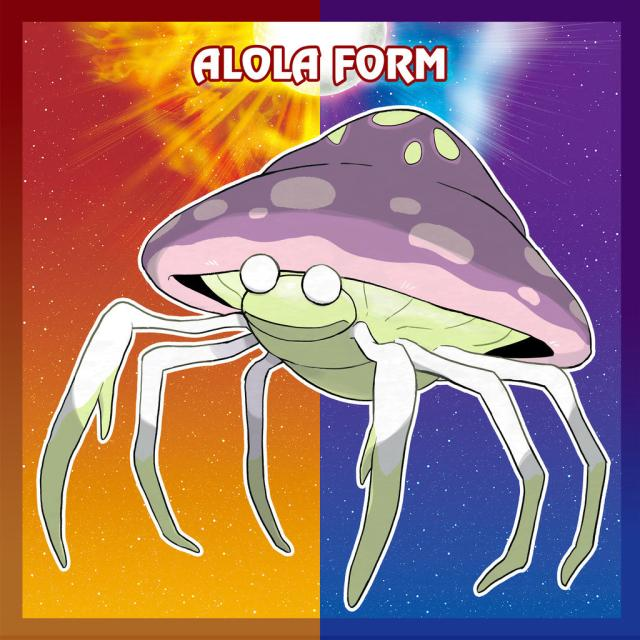Parasect: (128, 98, 602, 582)
